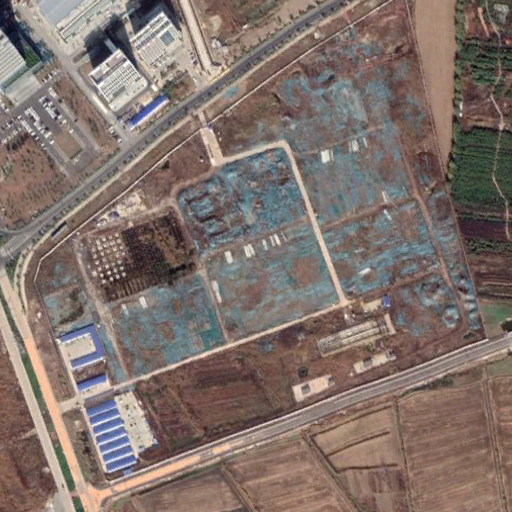cw: (30, 17, 481, 385)
